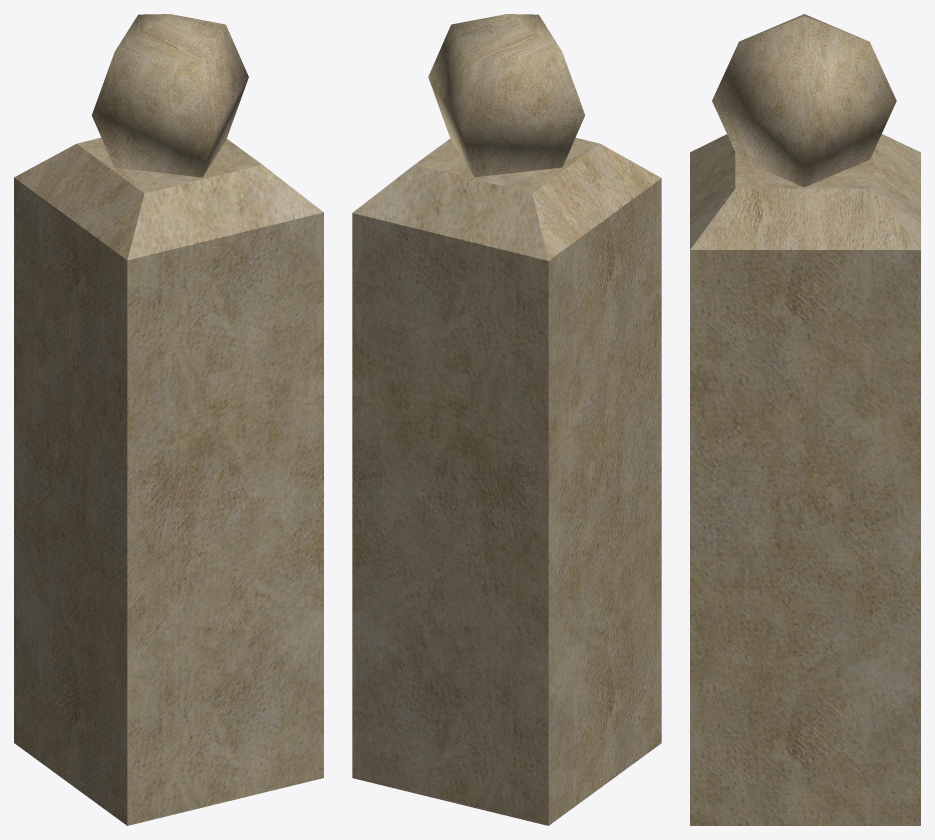
File: thm_nboo_imprv_pillar_s07_l2.fbx
3 views of the same model, side by side, from view 1: azimuth 30°, elevation 25°; view 2: azimuth 150°, elevation 25°; view 3: azimuth 270°, elevation 25° (orthographic).
Parts seen in each view (by area): view 1: mesh_node; view 2: mesh_node; view 3: mesh_node.
Boxes of the visible parts, x1,y1,x2,y2 form: mesh_node: (14,14,323,825); mesh_node: (352,14,661,825); mesh_node: (690,14,920,825).
Size of the model in its own units: 0.5 by 1.81 by 0.4993.
